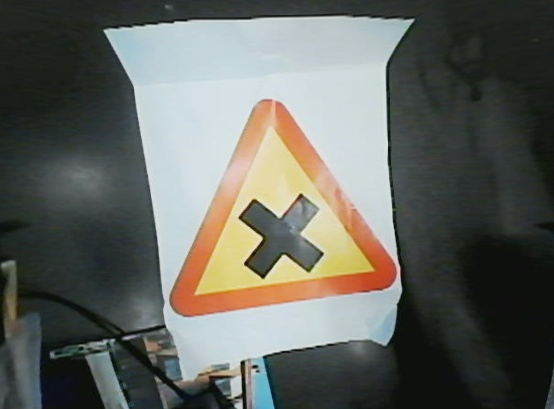junction: (132, 71, 422, 327)
